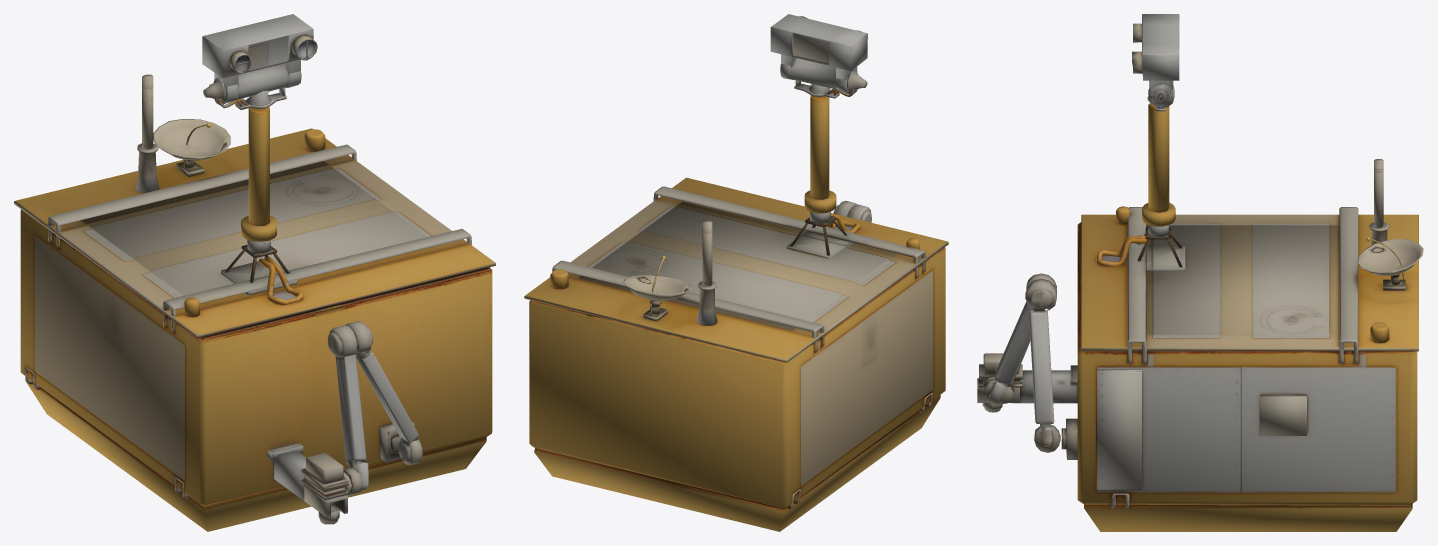
File: selected.glb
The picture shows the model from 3 angles, left to right: view 1: azimuth 30°, elevation 25°; view 2: azimuth 150°, elevation 25°; view 3: azimuth 270°, elevation 25°; orthographic projection. The views are drawn at different scales.
Parts seen in each view (by area): view 1: tripo_node_e71e7108-d74f-4965-bada-943cbc658ca4; view 2: tripo_node_e71e7108-d74f-4965-bada-943cbc658ca4; view 3: tripo_node_e71e7108-d74f-4965-bada-943cbc658ca4.
Boxes of the visible parts, box(x1,y1,x2,y2) form: tripo_node_e71e7108-d74f-4965-bada-943cbc658ca4: box(14, 14, 495, 531); tripo_node_e71e7108-d74f-4965-bada-943cbc658ca4: box(524, 14, 948, 531); tripo_node_e71e7108-d74f-4965-bada-943cbc658ca4: box(977, 14, 1423, 531).
Bounding box in the file's own units: 0.6895 × 0.998 × 0.9629.
1 material, 1 textured.
